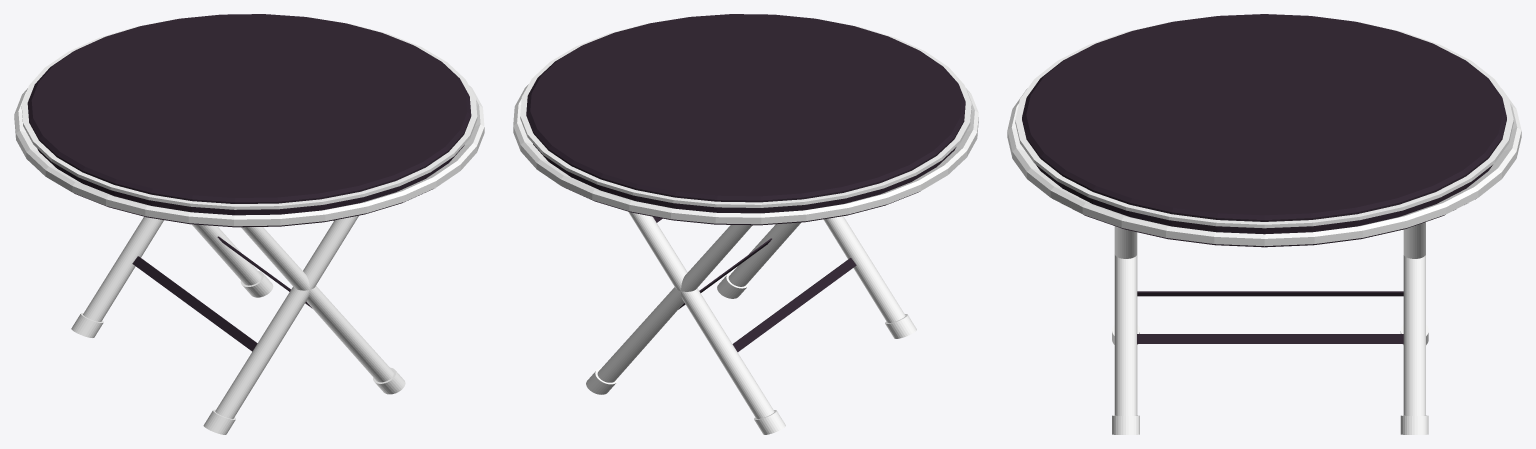
File: Stolik.fbx
3 renders of one model, left to right at view 1: azimuth 30°, elevation 25°; view 2: azimuth 150°, elevation 25°; view 3: azimuth 270°, elevation 25°, orthographic. The views are drawn at different scales.
Visible parts, largest first — view 1: Stolik; view 2: Stolik; view 3: Stolik.
Part boxes in pixels (box(x1,y1,x2,y2)): Stolik: box(14, 14, 484, 434); Stolik: box(513, 14, 978, 434); Stolik: box(1007, 14, 1521, 434).
Bounding box in the file's own units: 5.03 × 3.04 × 5.03.
